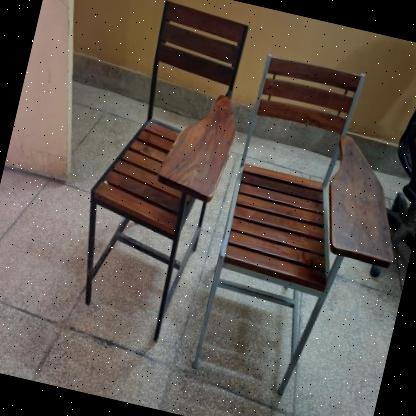chair: (184, 42, 416, 413), (45, 0, 265, 355)
